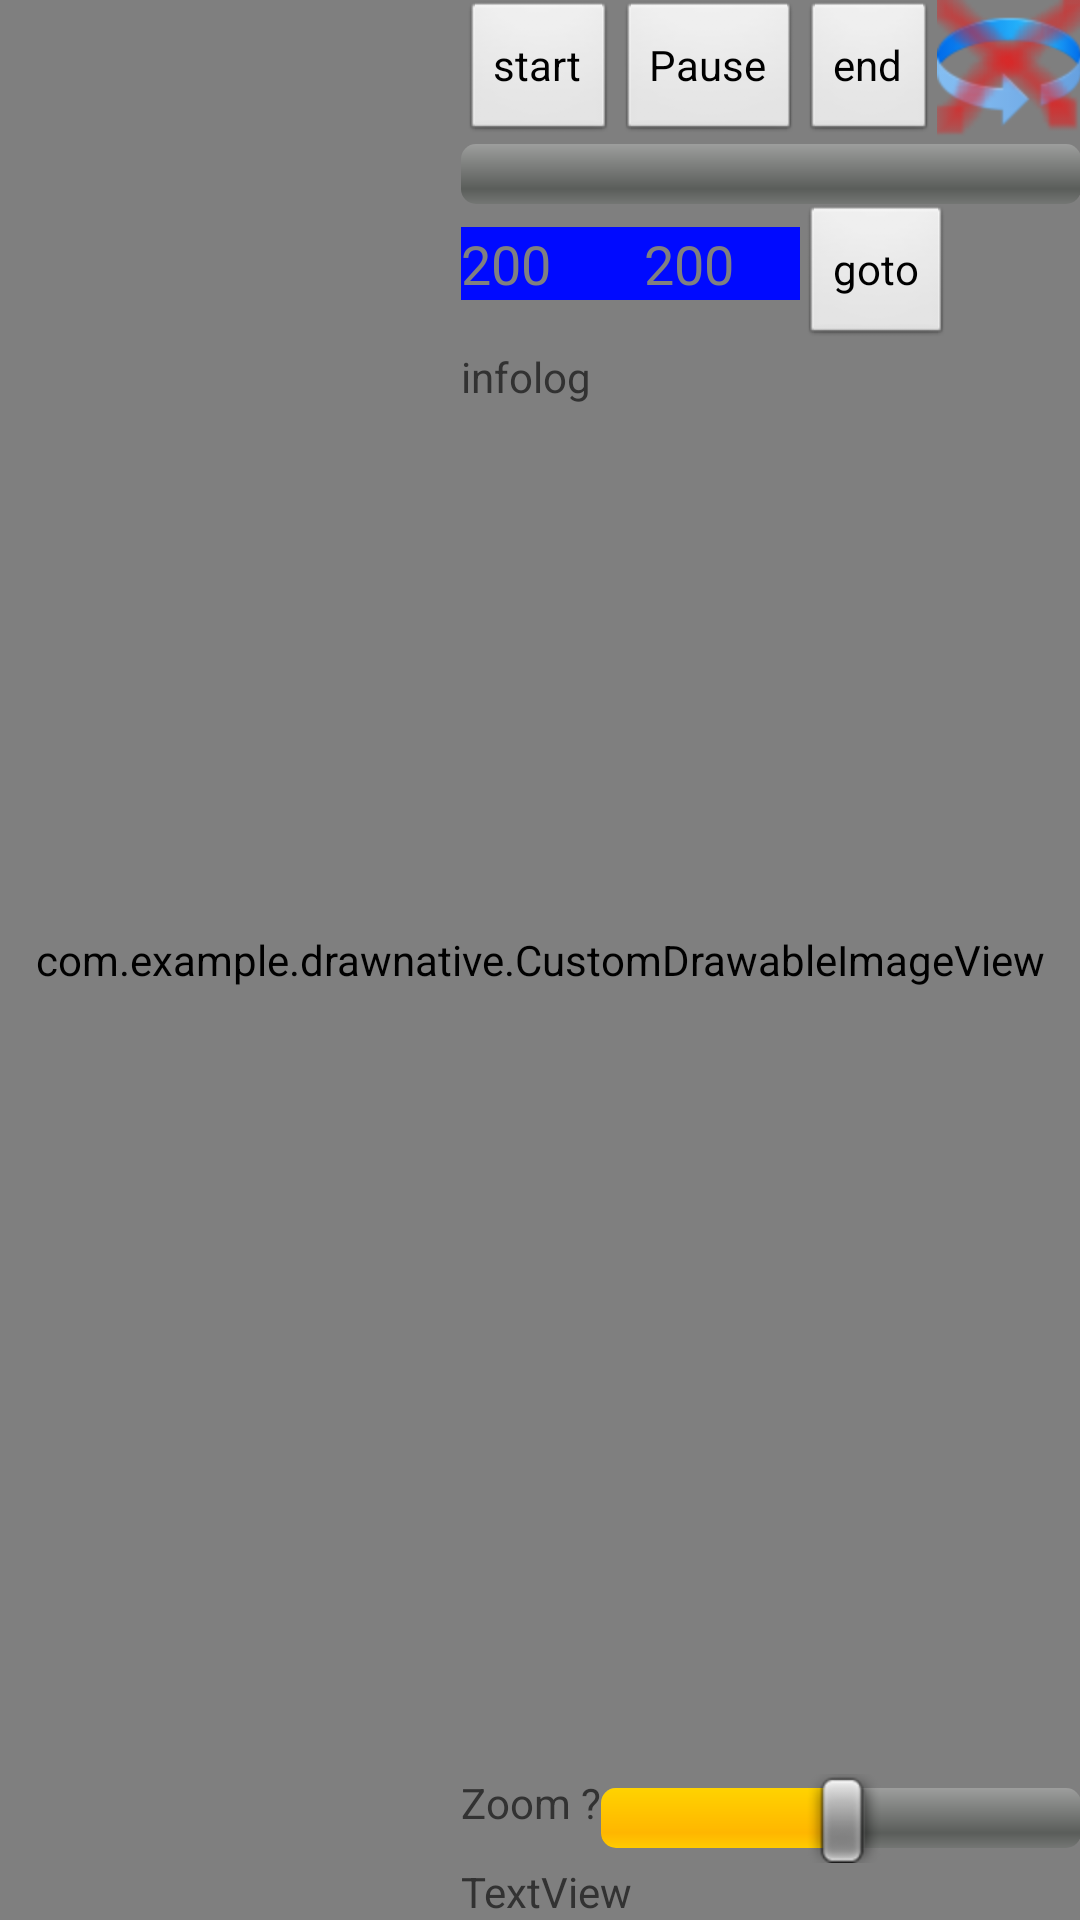

Icons on this 1080 × 1920 Android screen, each with the point to tap as point (x, y):
disconnect: point (1008, 72)
